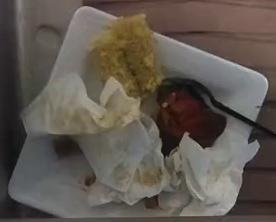rice: (93, 13, 160, 96)
unknown: (156, 78, 226, 156)
